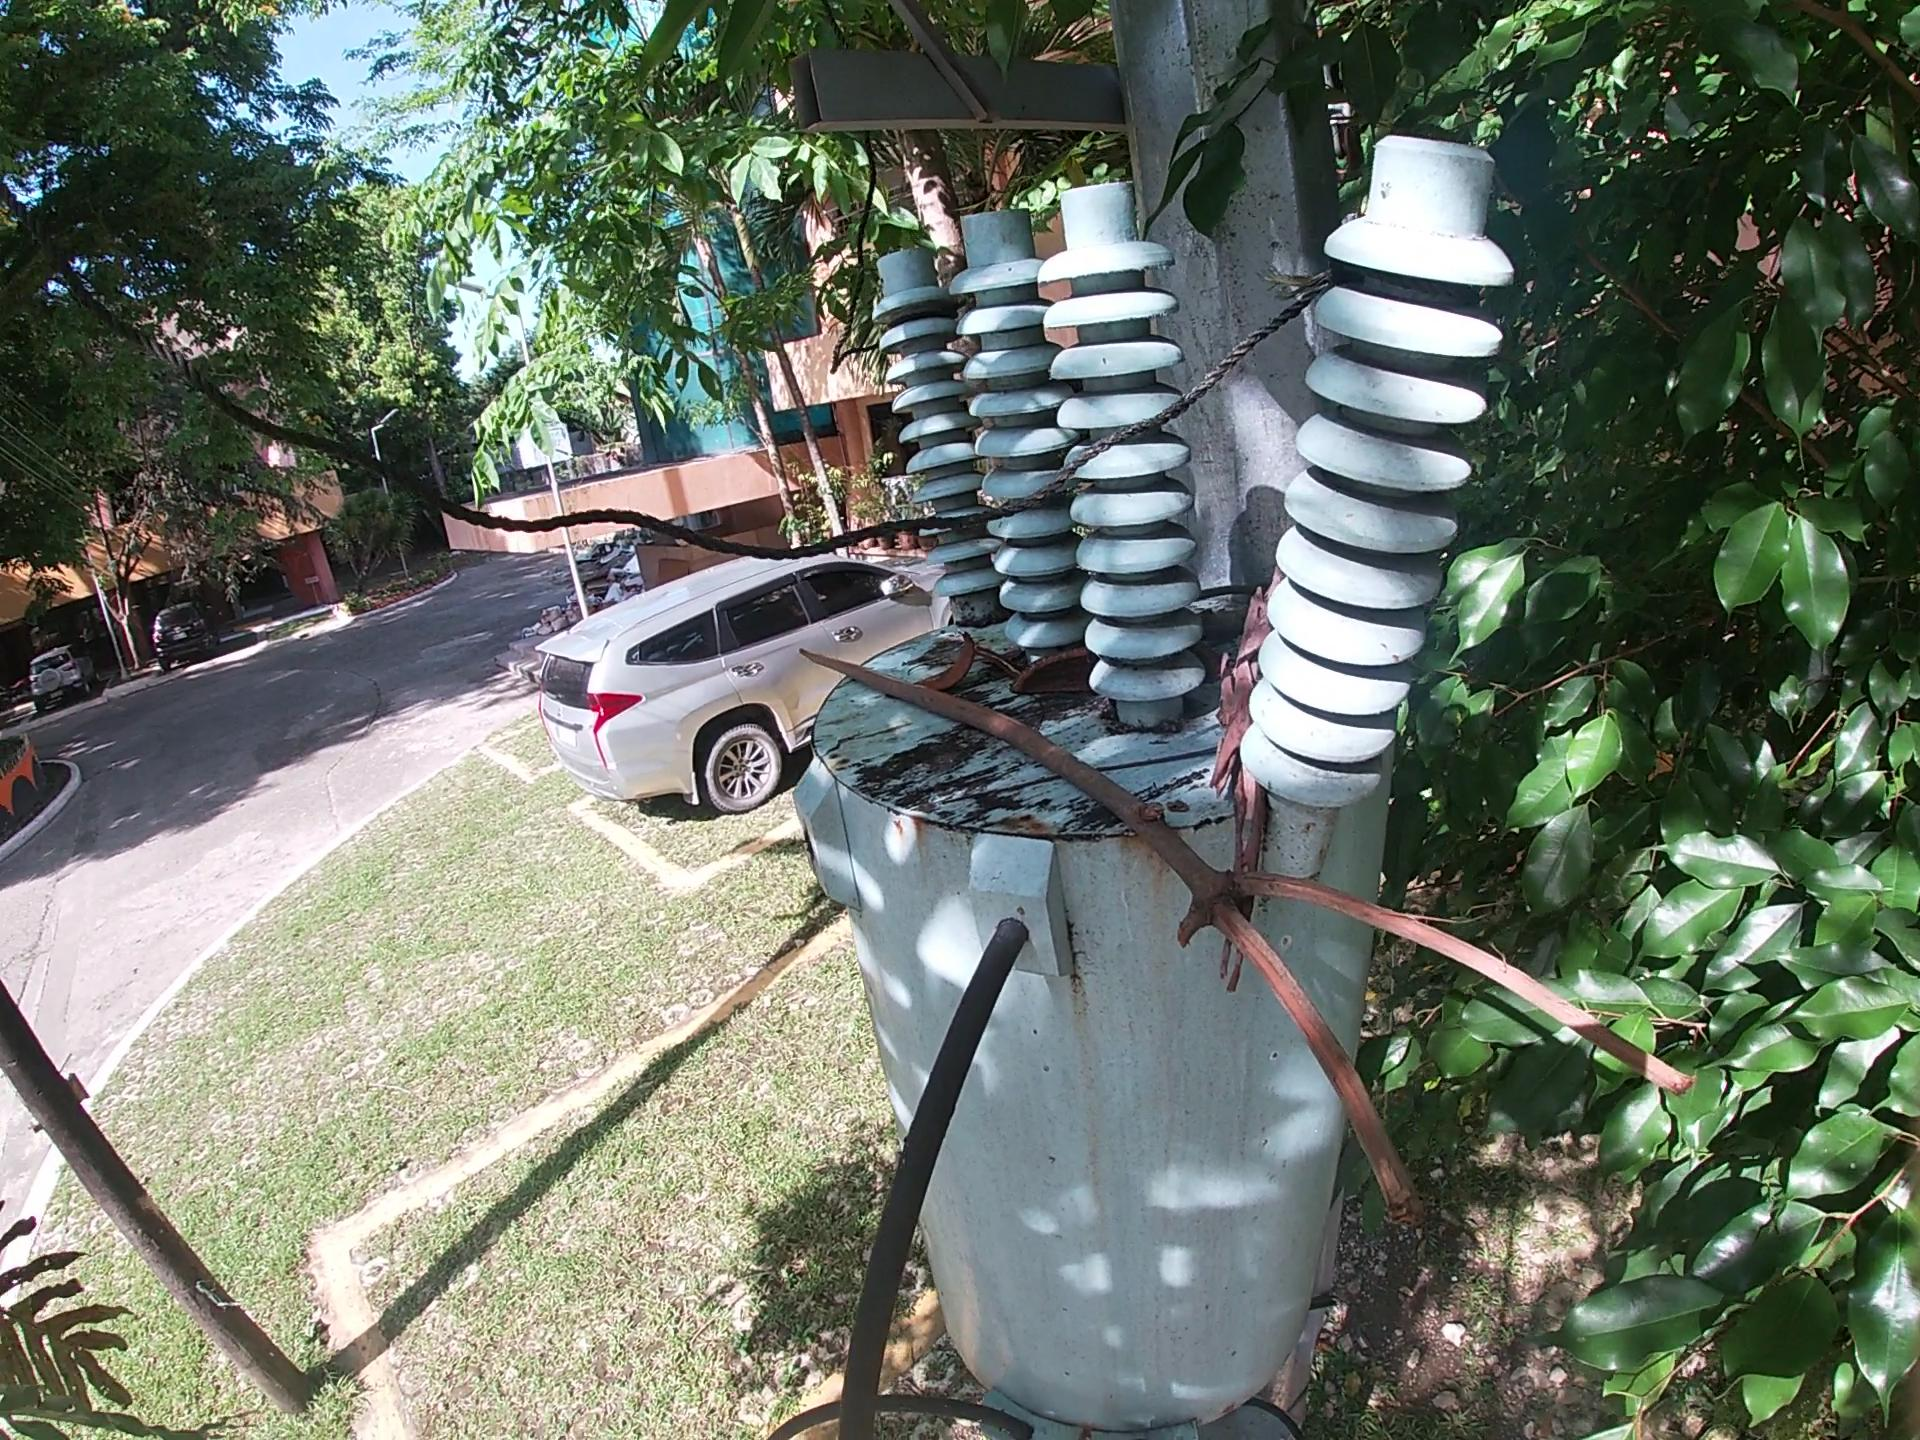mahogany fruit: (1005, 650, 1098, 718), (918, 629, 986, 685), (1203, 646, 1229, 679)
tree branch: (792, 646, 1714, 1283), (1238, 546, 1282, 1063), (943, 738, 1222, 811), (1191, 576, 1264, 608), (1197, 607, 1255, 644), (980, 647, 1023, 678)
